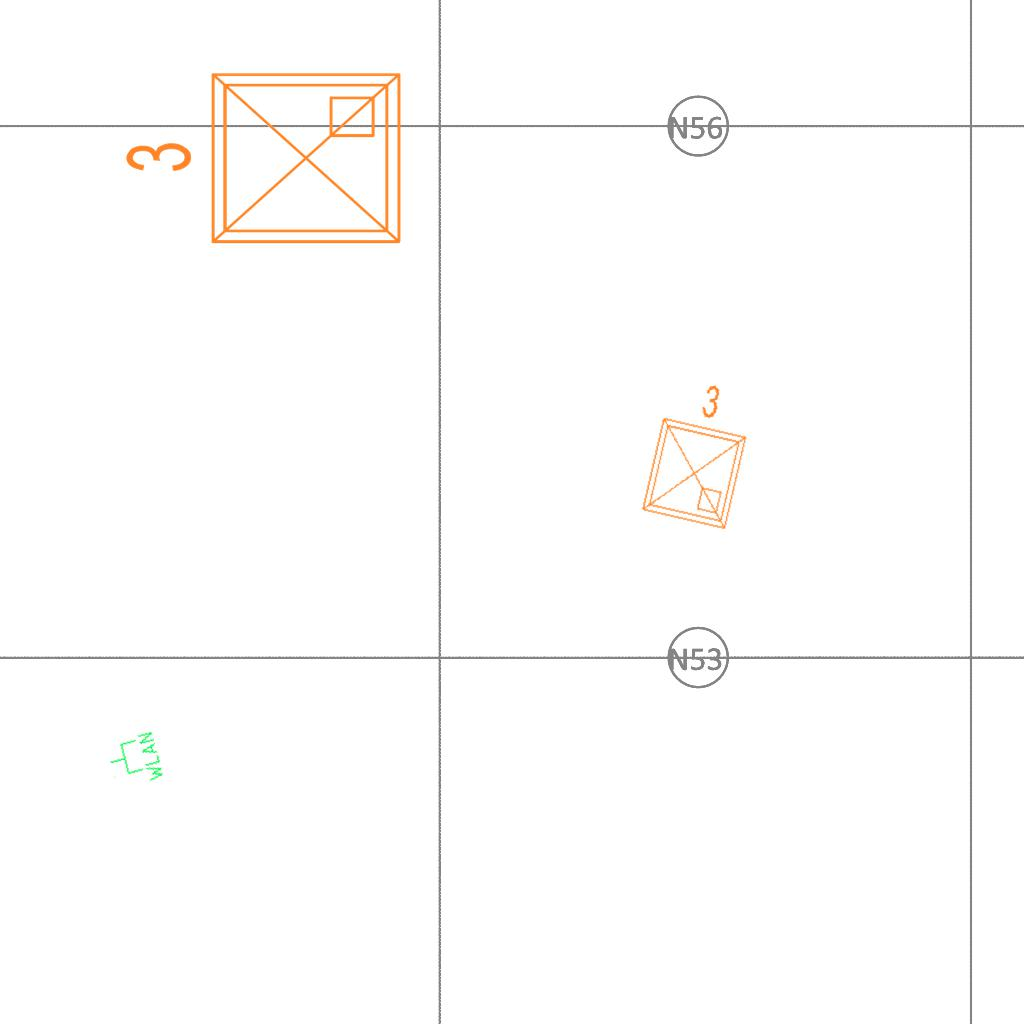Einbaudownlights_LED_Konferenzraeume: (115, 58, 415, 266), (629, 368, 765, 538)
WLAN: (103, 729, 167, 793)
